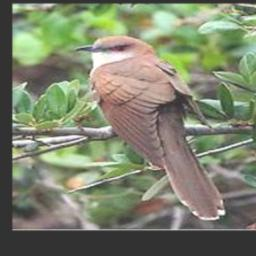Cuckoo: (74, 35, 225, 220)
